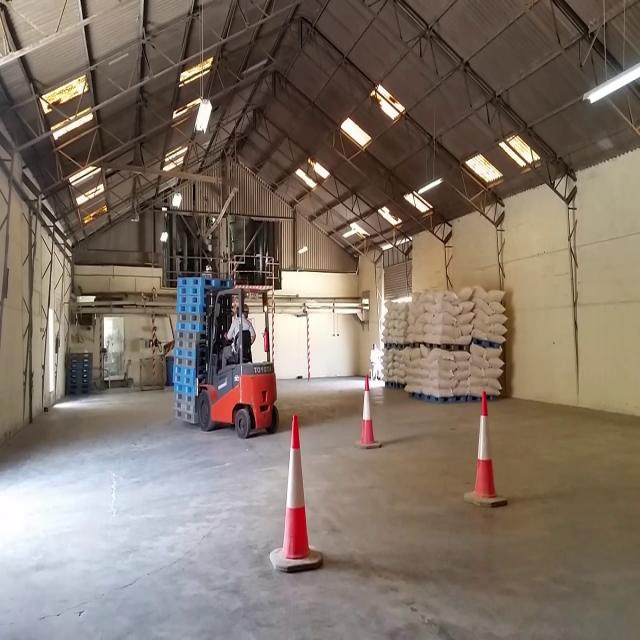Chariot elevateur: (192, 275, 283, 447)
